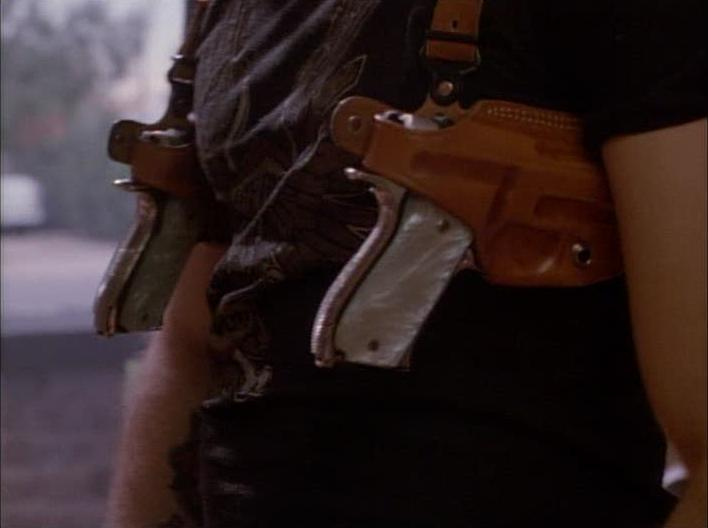gun: (290, 91, 616, 385), (61, 100, 224, 379)
